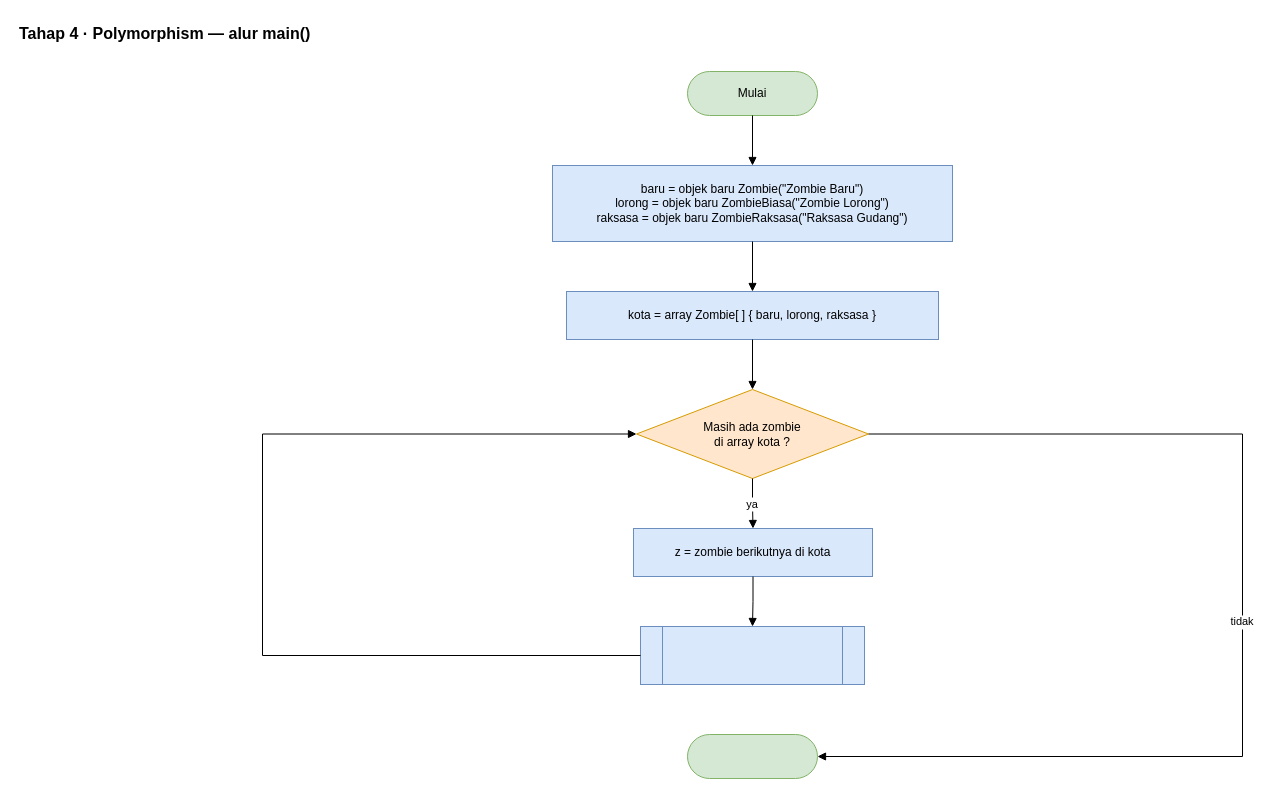
Image size: 1272x796. Some labels were removed from this diagram. The centre of each missing label's shape, as x and y in pixels:
Selesai: pixel 752 756
z.serang() (lihat halaman serang()): pixel 752 655
